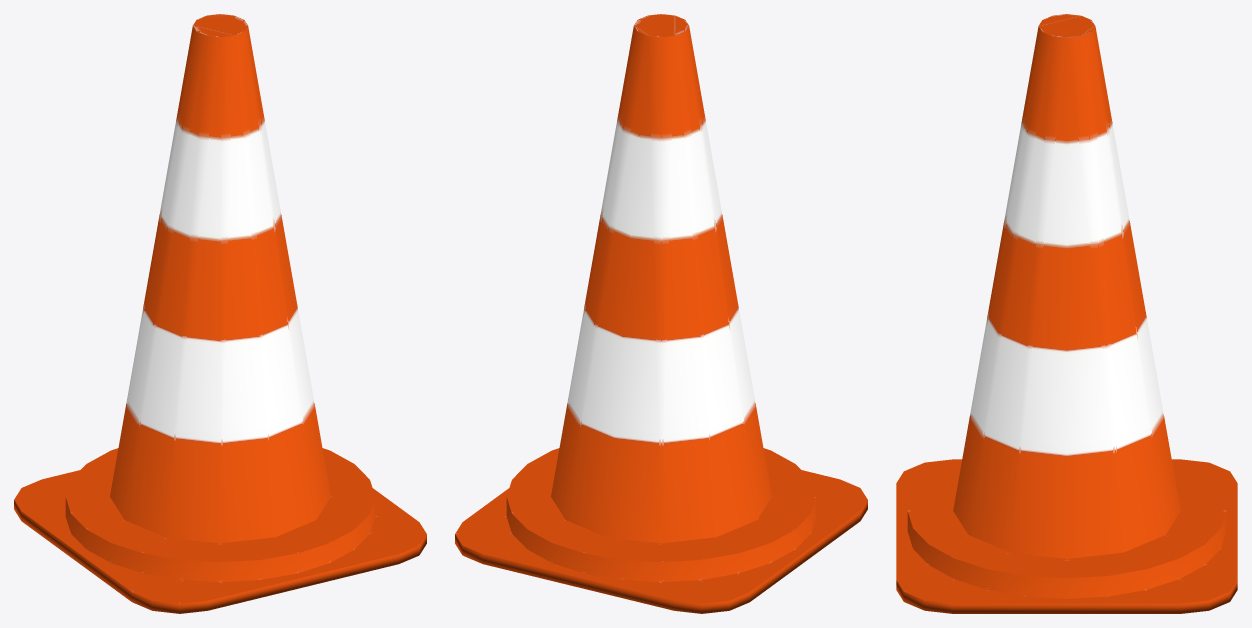
File: traffic_cone_low_poly.fbx
The picture shows the model from 3 angles, left to right: view 1: azimuth 30°, elevation 25°; view 2: azimuth 150°, elevation 25°; view 3: azimuth 270°, elevation 25°; orthographic projection. The views are drawn at different scales.
Visible parts, largest first — view 1: traffic_cone_low_poly; view 2: traffic_cone_low_poly; view 3: traffic_cone_low_poly.
Boxes of the visible parts, x1,y1,x2,y2 form: traffic_cone_low_poly: (14,14,426,613); traffic_cone_low_poly: (455,14,867,613); traffic_cone_low_poly: (896,14,1237,613).
Bounding box in the file's own units: 30 × 50 × 30.
